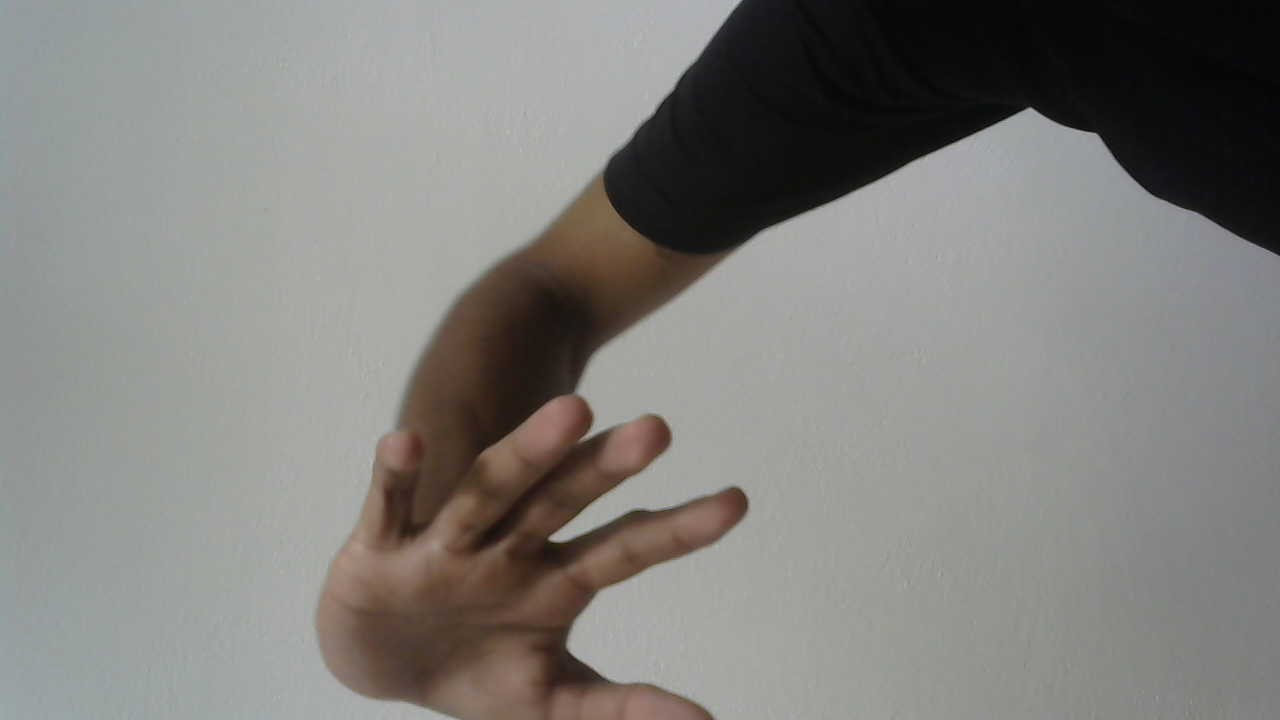hello: (310, 388, 756, 720)
